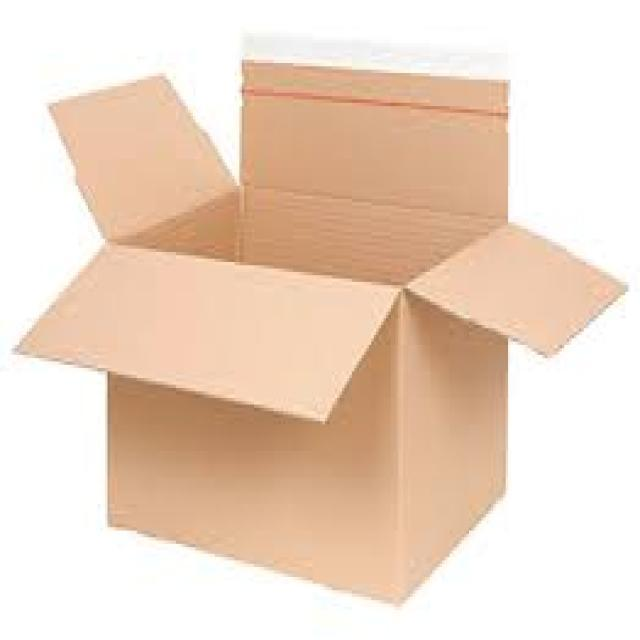Cardboard: (12, 57, 622, 608)
